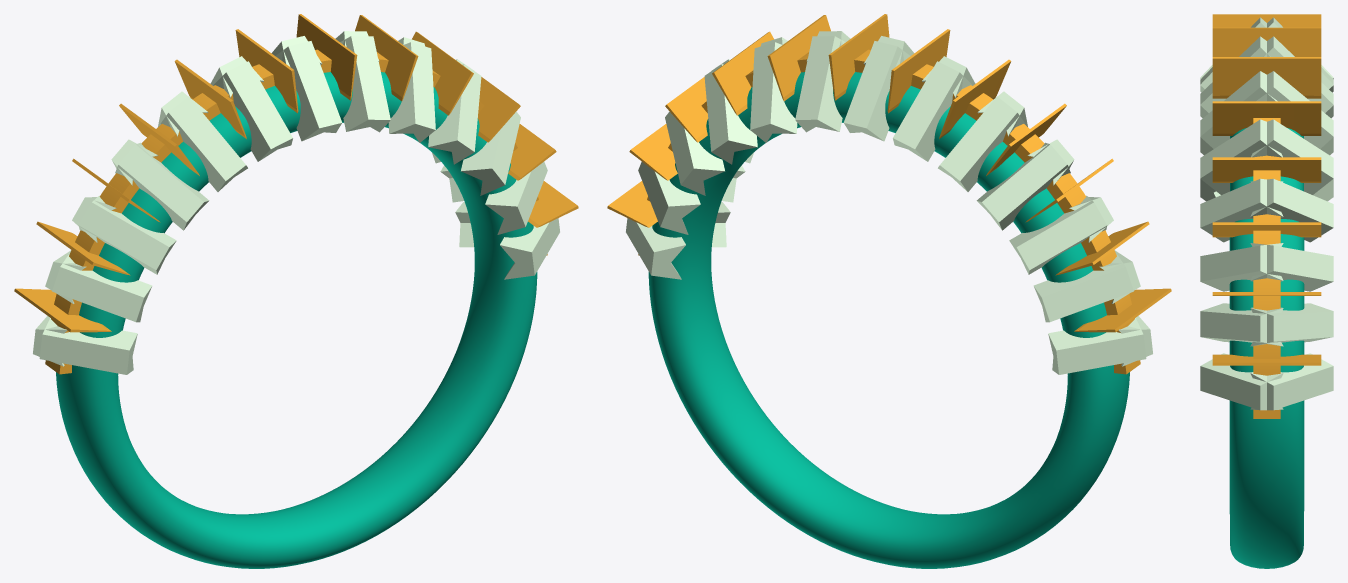
3 views of the same model, side by side, from view 1: azimuth 30°, elevation 25°; view 2: azimuth 150°, elevation 25°; view 3: azimuth 270°, elevation 25° (orthographic). The views are drawn at different scales.
Visible parts, largest first — view 1: VR FRENCH CUT SIZE K 2.5 MM(front).3dm, Micro Pave Cut Channel Cutter (×11), Channel Cutter; view 2: VR FRENCH CUT SIZE K 2.5 MM(front).3dm, Micro Pave Cut Channel Cutter (×11), Channel Cutter; view 3: VR FRENCH CUT SIZE K 2.5 MM(front).3dm, Micro Pave Cut Channel Cutter (×8), Channel Cutter.
Part boxes in pixels (x1,y1,x2,y2): VR FRENCH CUT SIZE K 2.5 MM(front).3dm: (33,31,559,568); Micro Pave Cut Channel Cutter (×11): (14,14,578,332); Channel Cutter: (45,49,547,374); VR FRENCH CUT SIZE K 2.5 MM(front).3dm: (626,31,1152,568); Micro Pave Cut Channel Cutter (×11): (607,14,1171,332); Channel Cutter: (638,49,1140,374); VR FRENCH CUT SIZE K 2.5 MM(front).3dm: (1200,17,1333,568); Micro Pave Cut Channel Cutter (×8): (1212,14,1321,365); Channel Cutter: (1253,118,1280,418).
Size of the model in its own units: 3.15 by 2.99 by 0.7197.
